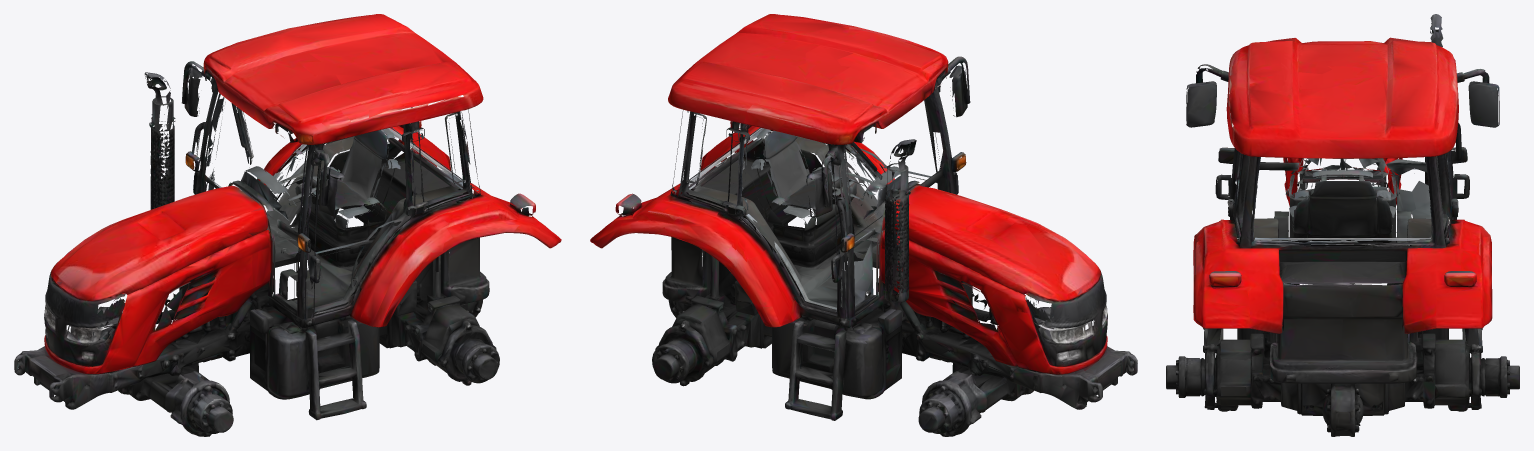
File: trator.glb
The picture shows the model from 3 angles, left to right: view 1: azimuth 30°, elevation 25°; view 2: azimuth 150°, elevation 25°; view 3: azimuth 270°, elevation 25°; orthographic projection. The views are drawn at different scales.
Parts seen in each view (by area): view 1: TratorCorpo_LOW; view 2: TratorCorpo_LOW; view 3: TratorCorpo_LOW.
Boxes of the visible parts, bbox=[...] form: TratorCorpo_LOW: bbox=[14, 14, 561, 436]; TratorCorpo_LOW: bbox=[590, 14, 1137, 436]; TratorCorpo_LOW: bbox=[1166, 14, 1519, 436].
Size of the model in its own units: 3.13 by 1.9 by 2.02.
Materials: 1 (1 with a texture image).
